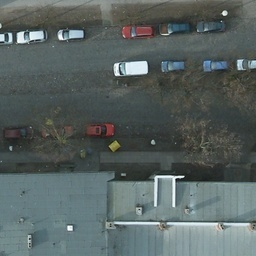car: (16, 25, 48, 46), (84, 120, 118, 138), (37, 123, 74, 138), (122, 22, 154, 39), (159, 20, 190, 36), (197, 18, 226, 35), (4, 123, 33, 140), (200, 58, 233, 72), (58, 24, 85, 41), (160, 57, 187, 72), (0, 28, 12, 45)
van: (114, 60, 150, 76)
